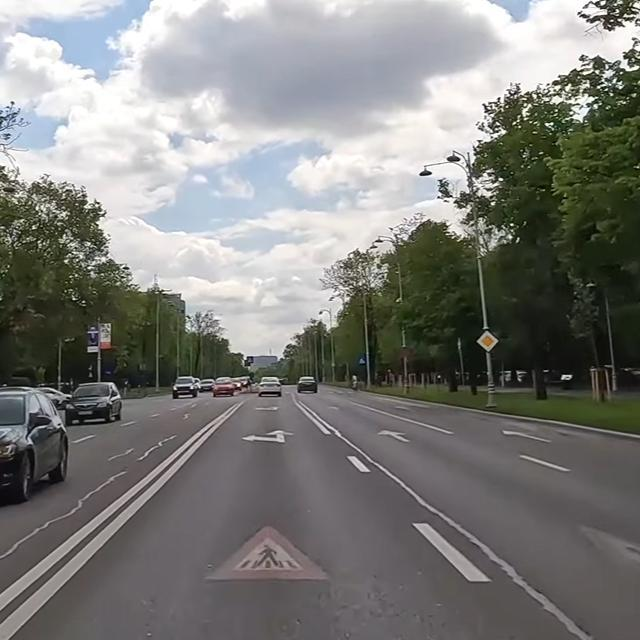warn_crosswalk: (210, 522, 331, 581)
